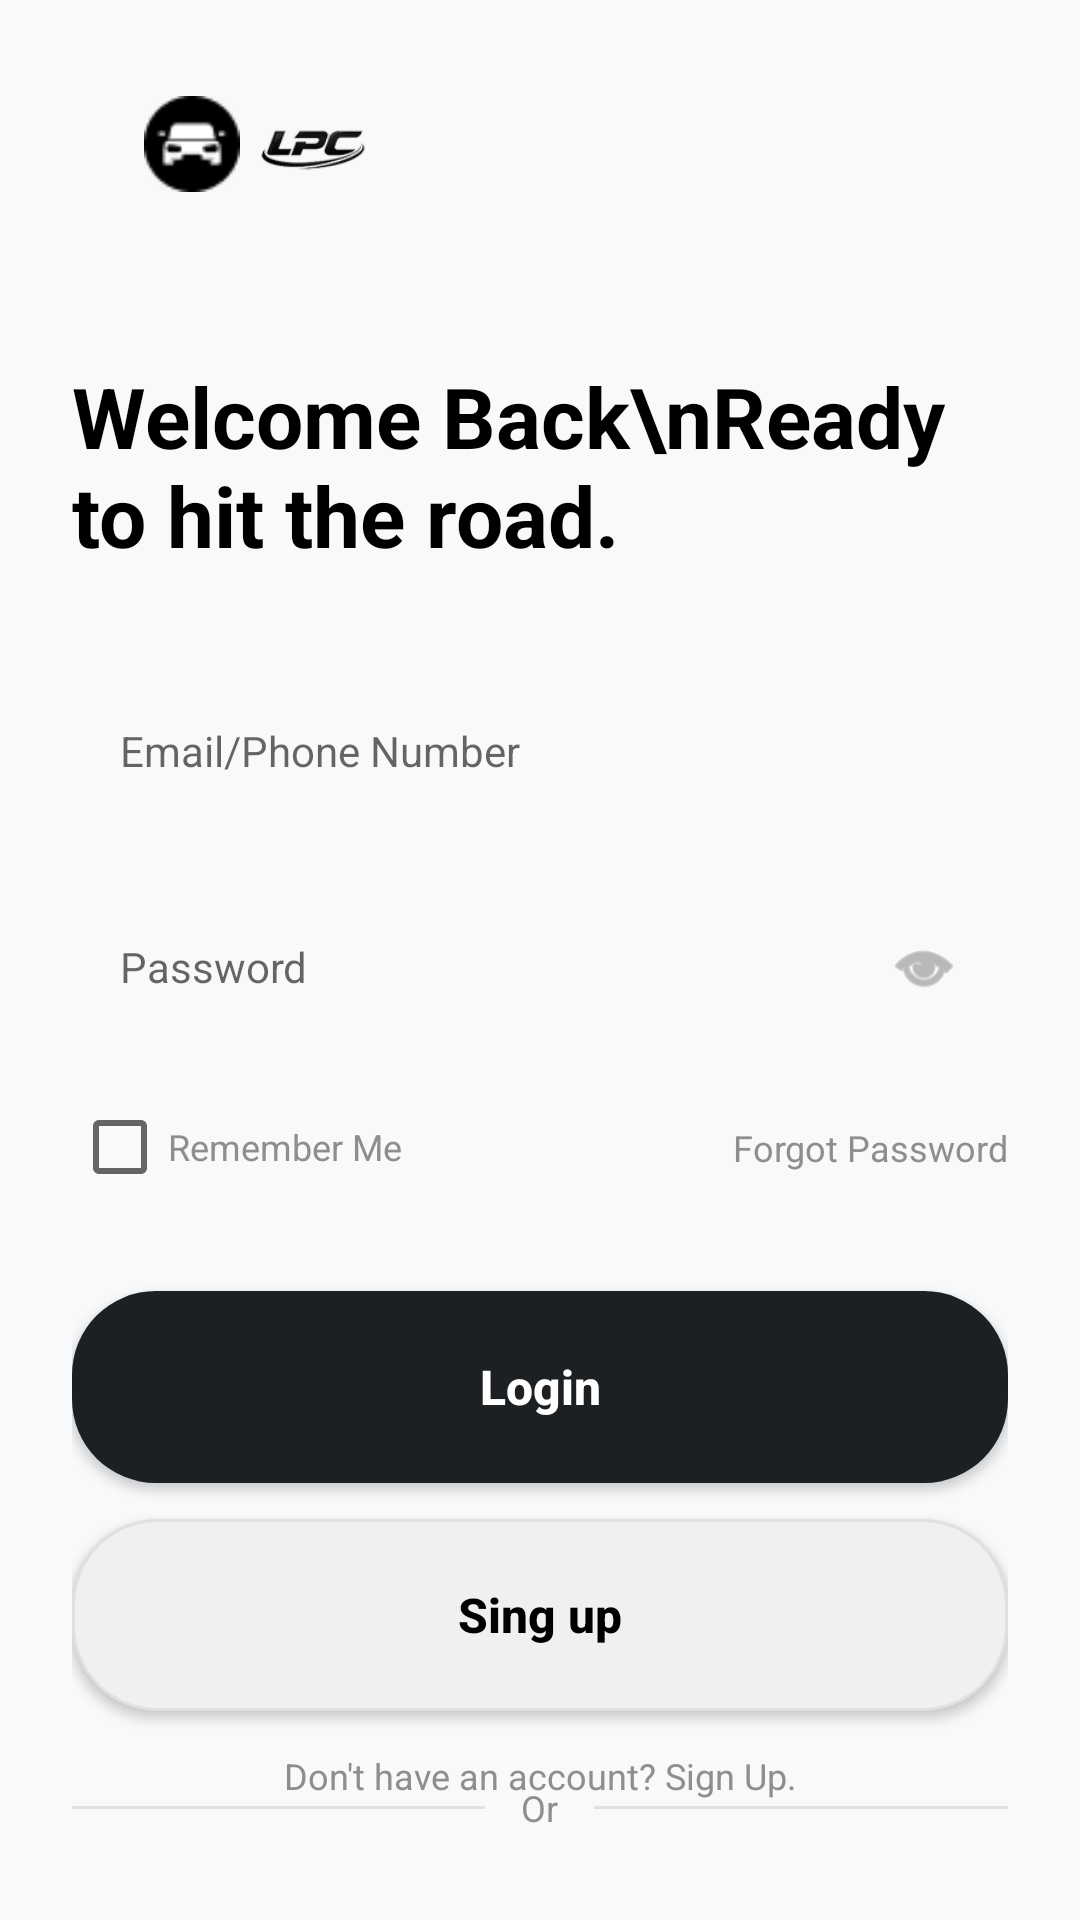

Screen size 1080px×1920px. Icon name, then its box in pixels as detection(x1, y1, x2, y2):
view: detection(895, 951, 953, 987)
